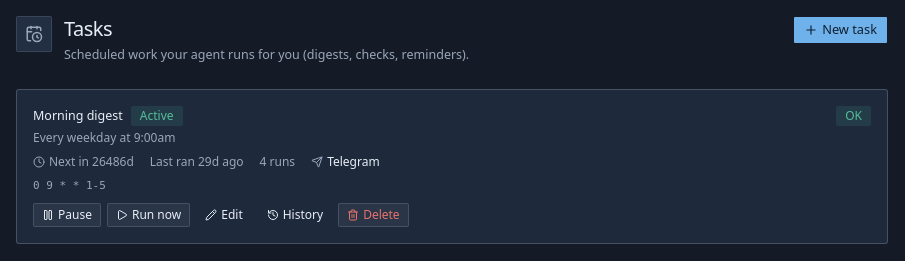
Test: JobsRoute › pauses a job and reflects the new state
The image size is (905, 261).
Check: the text "Morning digest" is shown, box [33, 107, 123, 125]
Click the button with aria-label "Pause task".
click(67, 215)  # box [33, 203, 101, 227]
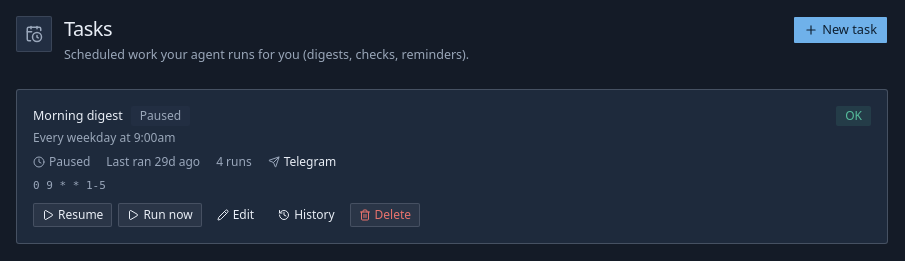
Check: the button with aria-label "Resume task" is shown, box [33, 203, 112, 227]
